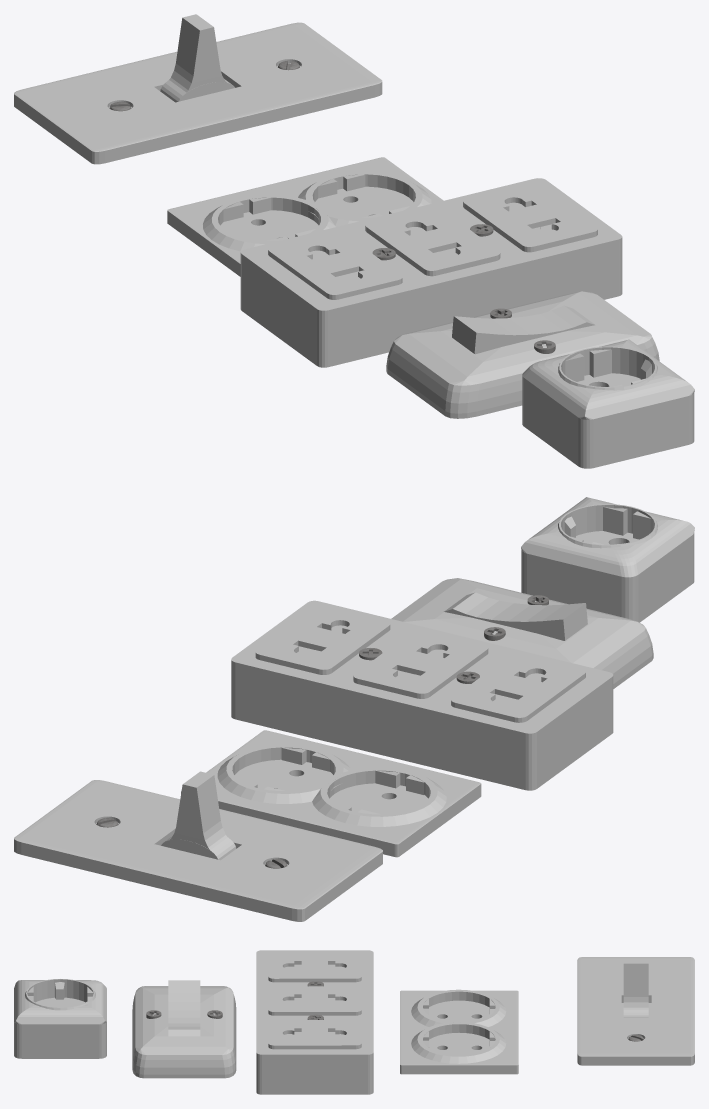
The model's file is sockets.fbx.
3 renders of one model, top to bottom at view 1: azimuth 30°, elevation 25°; view 2: azimuth 150°, elevation 25°; view 3: azimuth 270°, elevation 25°, orthographic. The views are drawn at different scales.
Parts seen in each view (by area): view 1: Rosette2, Switch2, Rosette3, Switch, Rosette1, Куб.009, Куб.004, Куб.008, On/Off, Куб.028, Цилиндр.012, Цилиндр.013 (+2 smaller); view 2: Rosette2, Switch2, Rosette3, Rosette1, Switch, Куб.009, Куб.004, Куб.008, On/Off, Цилиндр.012, Куб.028, Цилиндр.013 (+3 smaller); view 3: Switch2, Rosette2, Switch, Rosette1, Rosette3, Куб.009, Куб.004, Куб.008, On/Off, Цилиндр.013, Цилиндр.012, Куб.028 (+1 smaller).
Part boxes in pixels (x1,y1,x2,y2): Rosette2: [240, 178, 622, 367]; Switch2: [14, 22, 382, 164]; Rosette3: [522, 339, 694, 468]; Switch: [386, 291, 659, 418]; Rosette1: [167, 157, 443, 276]; Куб.009: [463, 183, 597, 252]; Куб.004: [365, 206, 500, 276]; Куб.008: [268, 231, 402, 299]; On/Off: [452, 305, 594, 354]; Куб.028: [169, 14, 226, 92]; Цилиндр.012: [203, 195, 335, 251]; Цилиндр.013: [298, 172, 431, 226]; Rosette2: [231, 600, 613, 790]; Switch2: [14, 780, 382, 921]; Rosette3: [521, 497, 694, 622]; Rosette1: [181, 730, 481, 857]; Switch: [391, 578, 653, 688]; Куб.009: [255, 605, 390, 674]; Куб.004: [353, 629, 488, 698]; Куб.008: [451, 653, 585, 722]; On/Off: [444, 592, 587, 640]; Цилиндр.012: [312, 767, 446, 826]; Куб.028: [170, 771, 227, 849]; Цилиндр.013: [217, 744, 350, 803]; Switch2: [577, 957, 694, 1065]; Rosette2: [256, 950, 373, 1094]; Switch: [132, 986, 236, 1078]; Rosette1: [400, 990, 518, 1074]; Rosette3: [14, 980, 106, 1058]; Куб.009: [268, 1020, 361, 1049]; Куб.004: [268, 986, 361, 1015]; Куб.008: [268, 953, 361, 982]; On/Off: [168, 980, 200, 1036]; Цилиндр.013: [411, 1022, 506, 1063]; Цилиндр.012: [411, 989, 506, 1026]; Куб.028: [623, 959, 648, 1009].
Bounding box in the file's own units: 420 × 149 × 1158.
